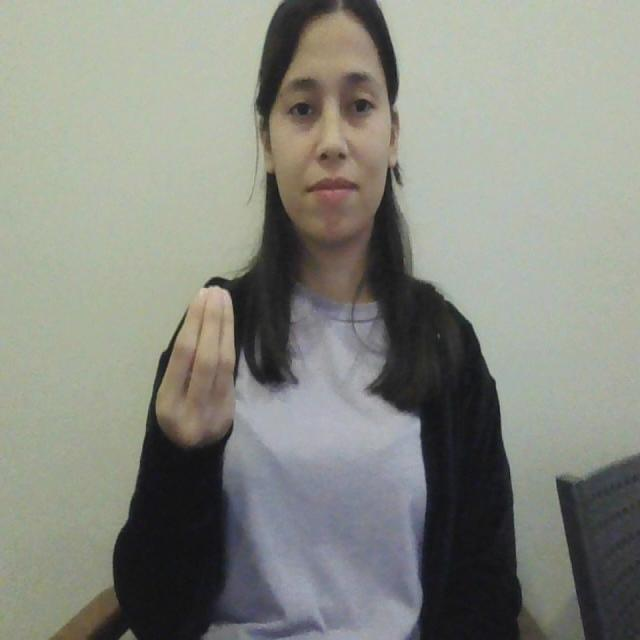iyi: (152, 278, 245, 456)
